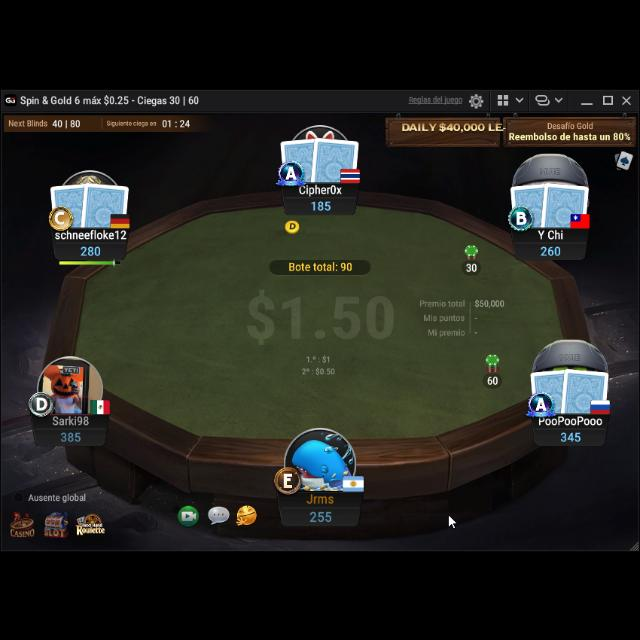bet_text: (465, 258, 479, 270), (486, 372, 500, 383)
card_back: (539, 175, 589, 227), (560, 362, 610, 413), (80, 177, 130, 227), (310, 132, 360, 182), (509, 178, 553, 226), (48, 178, 92, 226), (529, 364, 571, 412), (280, 134, 320, 180)
dealer: (284, 215, 300, 232)
pot_text: (286, 256, 354, 270)
stack_text: (78, 240, 102, 256), (538, 240, 562, 254), (58, 426, 82, 440), (308, 506, 332, 520), (560, 426, 582, 440), (312, 195, 332, 209)
